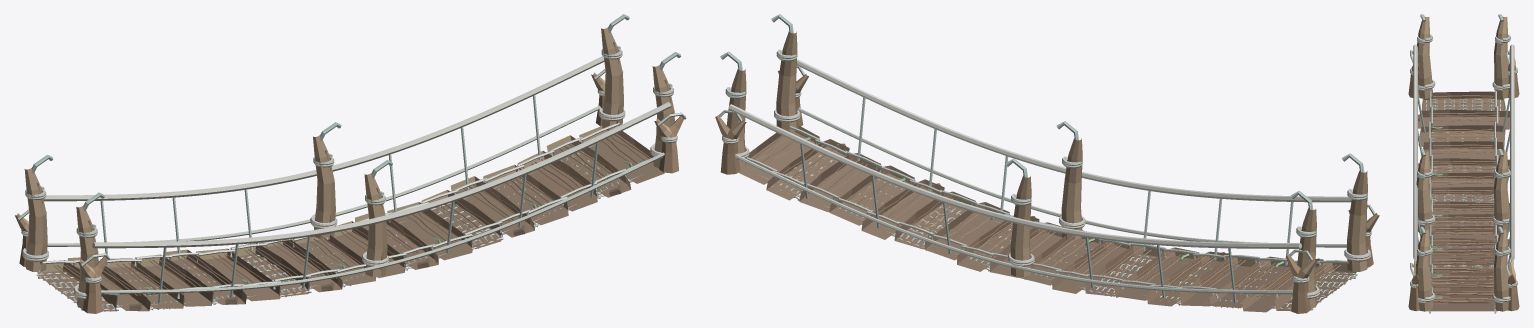
The model's file is bridge_4m_reference_only.glb.
The picture shows the model from 3 angles, left to right: view 1: azimuth 30°, elevation 25°; view 2: azimuth 150°, elevation 25°; view 3: azimuth 270°, elevation 25°; orthographic projection. The views are drawn at different scales.
Visible parts, largest first — view 1: Rail_1_1, Rail_-1_1, Rail_1_0, Plank17_FacetedPlank, Plank14_FacetedPlank, Rail_-1_0, Plank11_FacetedPlank, Plank15_FacetedPlank, Plank16_FacetedPlank, Support_-1_0_FacetedTwigSupport, Plank13_FacetedPlank, Plank05_FacetedPlank (+18 smaller); view 2: Rail_-1_1, Rail_1_1, Rail_-1_0, Plank14_FacetedPlank, Rail_1_0, Plank17_FacetedPlank, Plank15_FacetedPlank, Plank11_FacetedPlank, Plank16_FacetedPlank, Plank13_FacetedPlank, Support_1_0_FacetedTwigSupport, Plank05_FacetedPlank (+18 smaller); view 3: Plank01_FacetedPlank, Plank02_FacetedPlank, Plank00_FacetedPlank, Plank03_FacetedPlank, Rail_-1_1, Rail_1_1, Plank05_FacetedPlank, Support_-1_8_FacetedTwigSupport, Plank04_FacetedPlank, Support_1_8_FacetedTwigSupport, Support_-1_0_FacetedTwigSupport, Support_-1_4_FacetedTwigSupport (+62 smaller).
Part boxes in pixels (left/top/right/bottom): Rail_1_1: left=92, top=102, right=671, bottom=248; Rail_-1_1: left=43, top=56, right=604, bottom=201; Rail_1_0: left=101, top=152, right=664, bottom=293; Plank17_FacetedPlank: left=579, top=126, right=664, bottom=183; Plank14_FacetedPlank: left=483, top=164, right=568, bottom=225; Rail_-1_0: left=47, top=105, right=600, bottom=246; Plank11_FacetedPlank: left=387, top=202, right=472, bottom=260; Plank15_FacetedPlank: left=517, top=151, right=597, bottom=211; Plank16_FacetedPlank: left=546, top=135, right=631, bottom=197; Support_-1_0_FacetedTwigSupport: left=24, top=167, right=47, bottom=271; Plank13_FacetedPlank: left=451, top=176, right=534, bottom=237; Plank05_FacetedPlank: left=196, top=248, right=280, bottom=301; Rail_-1_1: left=728, top=104, right=1301, bottom=248; Rail_1_1: left=797, top=59, right=1351, bottom=202; Rail_-1_0: left=735, top=154, right=1292, bottom=293; Plank14_FacetedPlank: left=829, top=165, right=914, bottom=225; Rail_1_0: left=798, top=107, right=1346, bottom=247; Plank17_FacetedPlank: left=738, top=125, right=819, bottom=184; Plank15_FacetedPlank: left=799, top=153, right=880, bottom=211; Plank11_FacetedPlank: left=924, top=202, right=1009, bottom=260; Plank16_FacetedPlank: left=766, top=139, right=849, bottom=200; Plank13_FacetedPlank: left=861, top=179, right=944, bottom=239; Support_1_0_FacetedTwigSupport: left=1347, top=170, right=1367, bottom=271; Plank05_FacetedPlank: left=1114, top=247, right=1199, bottom=300; Plank01_FacetedPlank: left=1418, top=109, right=1509, bottom=129; Plank02_FacetedPlank: left=1418, top=125, right=1505, bottom=147; Plank00_FacetedPlank: left=1422, top=91, right=1505, bottom=110; Plank03_FacetedPlank: left=1423, top=141, right=1504, bottom=159; Rail_-1_1: left=1510, top=44, right=1514, bottom=260; Rail_1_1: left=1413, top=44, right=1417, bottom=260; Plank05_FacetedPlank: left=1430, top=172, right=1493, bottom=194; Support_-1_8_FacetedTwigSupport: left=1494, top=229, right=1508, bottom=311; Plank04_FacetedPlank: left=1419, top=158, right=1509, bottom=177; Support_1_8_FacetedTwigSupport: left=1416, top=229, right=1432, bottom=311; Support_-1_0_FacetedTwigSupport: left=1494, top=17, right=1508, bottom=98; Support_-1_4_FacetedTwigSupport: left=1494, top=151, right=1509, bottom=233.
Size of the model in its own units: 4.22 by 1.05 by 0.8828.
